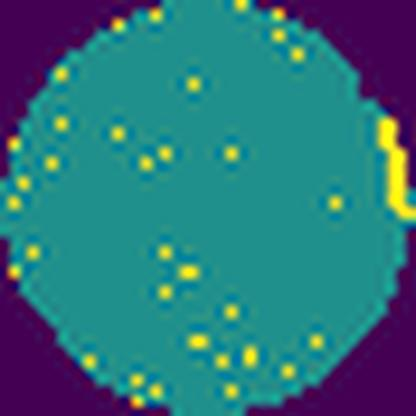Edge-Loc: (373, 114, 415, 223)
